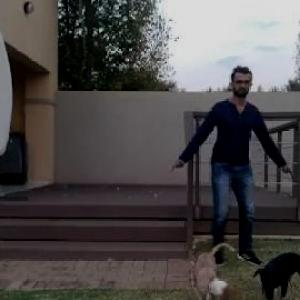land: (171, 68, 289, 271)
